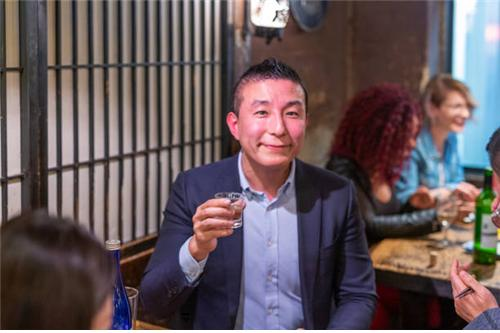alcohol: (105, 239, 131, 333), (472, 172, 496, 266), (435, 193, 458, 247), (216, 193, 243, 228), (125, 286, 138, 333)
